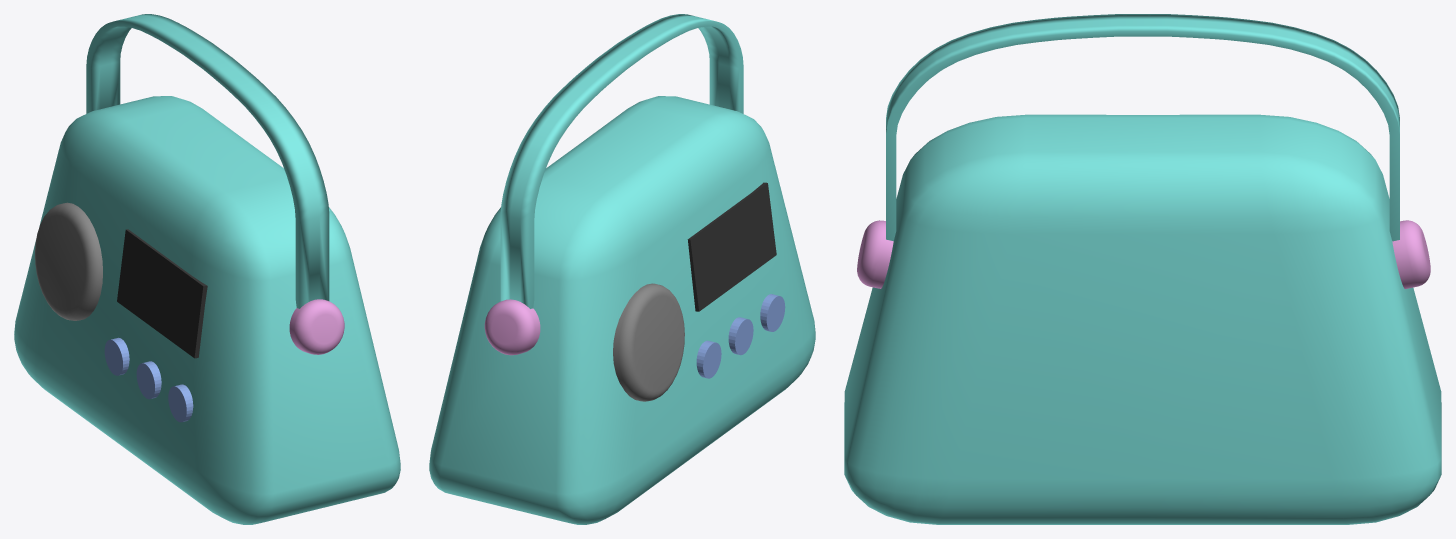
File: music1.glb
3 renders of one model, left to right at view 1: azimuth 30°, elevation 25°; view 2: azimuth 150°, elevation 25°; view 3: azimuth 270°, elevation 25°, orthographic. The views are drawn at different scales.
Parts seen in each view (by area): view 1: Cube.004; view 2: Cube.004; view 3: Cube.004.
Part boxes in pixels (x1=…): Cube.004: x1=14, y1=14, x2=400, y2=524; Cube.004: x1=429, y1=14, x2=815, y2=524; Cube.004: x1=844, y1=14, x2=1441, y2=524.
Size of the model in its own units: 0.5696 by 1.11 by 1.3.
